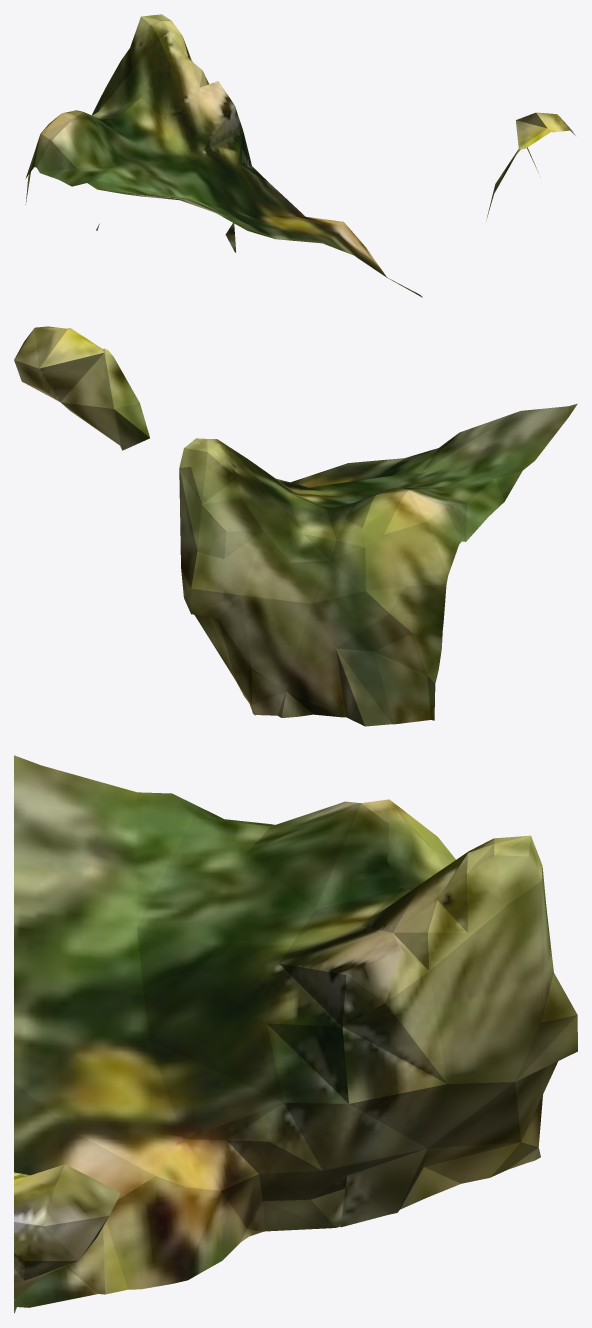
The picture shows the model from 3 angles, top to bottom: view 1: azimuth 30°, elevation 25°; view 2: azimuth 150°, elevation 25°; view 3: azimuth 270°, elevation 25°; orthographic projection. The views are drawn at different scales.
Size of the model in its own units: 0.9632 by 0.4228 by 0.6031.
1 material, 1 textured.
